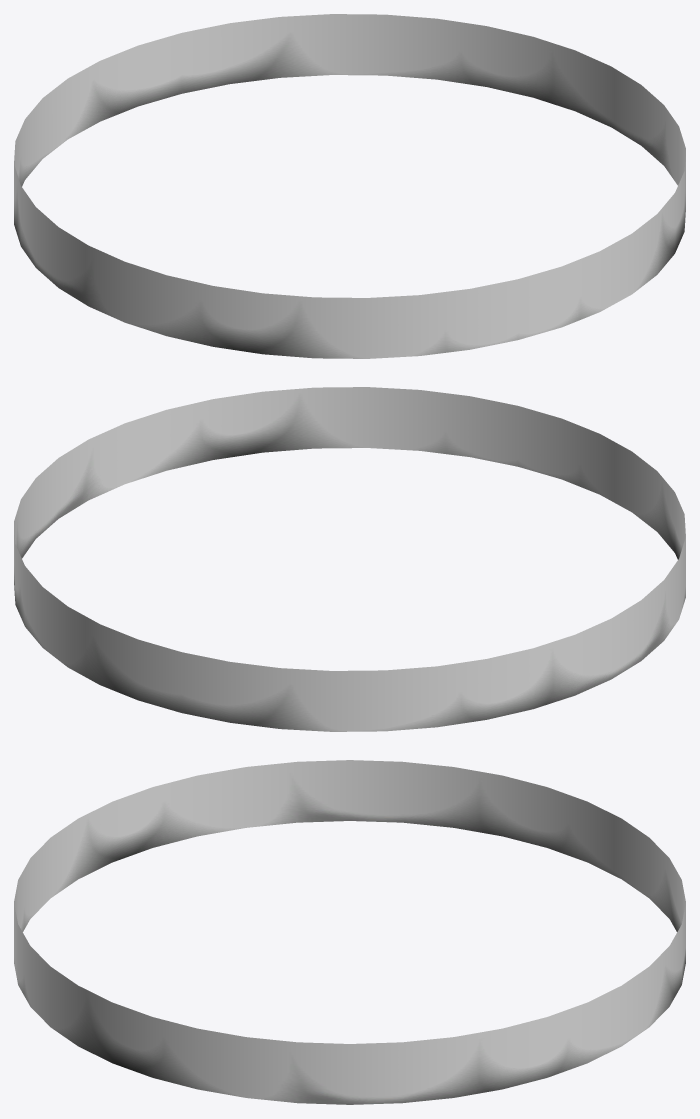
File: Effect_Crown_1.fbx
The picture shows the model from 3 angles, top to bottom: view 1: azimuth 30°, elevation 25°; view 2: azimuth 150°, elevation 25°; view 3: azimuth 270°, elevation 25°; orthographic projection.
Visible parts, largest first — view 1: eff_wind01; view 2: eff_wind01; view 3: eff_wind01.
Part boxes in pixels (x1,y1,x2,y2): eff_wind01: (14, 14, 685, 358); eff_wind01: (14, 387, 685, 731); eff_wind01: (14, 760, 685, 1104).
Bounding box in the file's own units: 200 × 20 × 200.
1 material, 1 textured.
